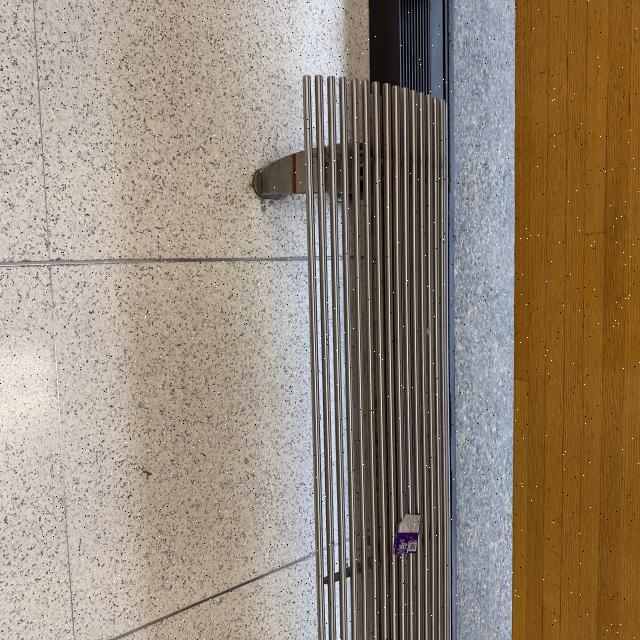Bench: (205, 244, 630, 511)
